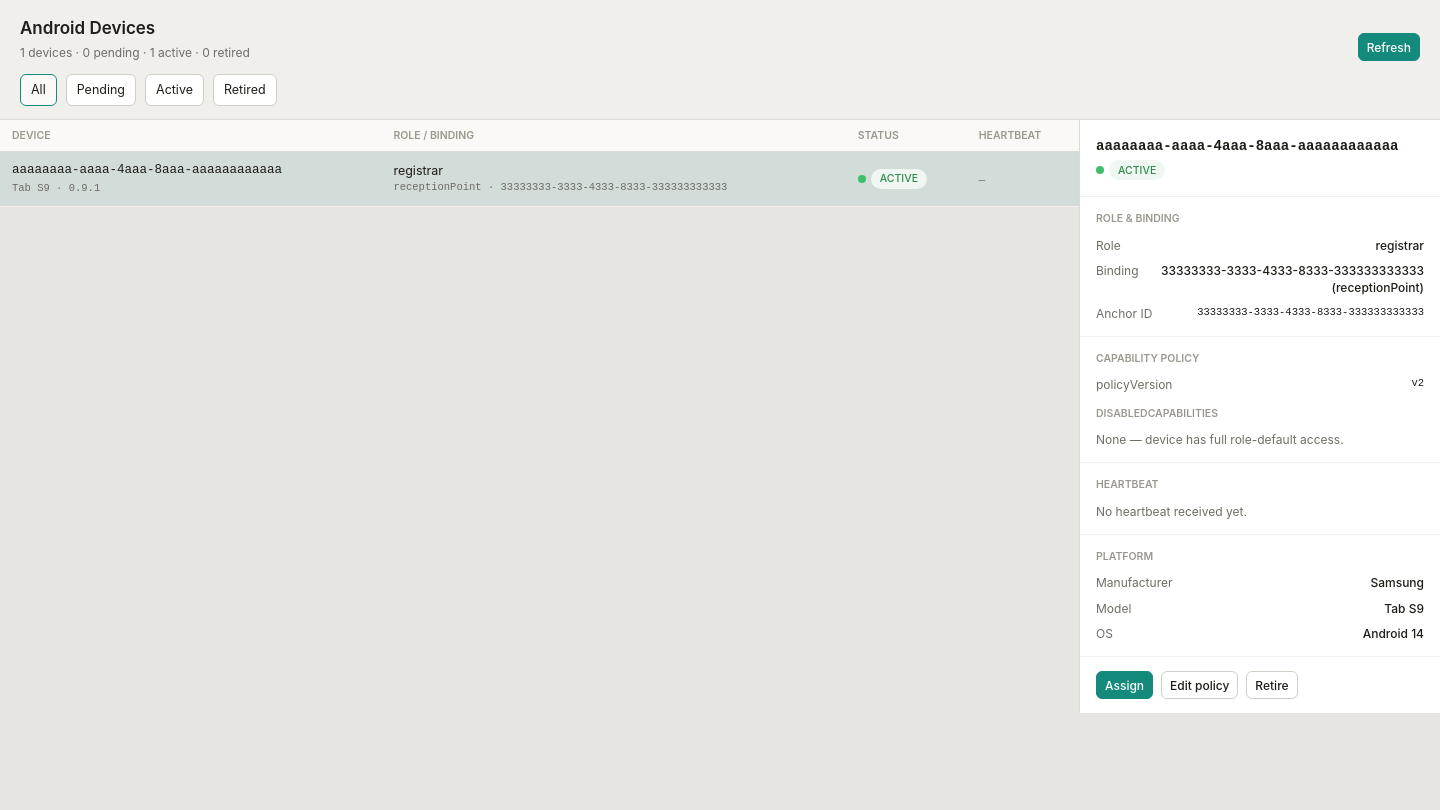
device commands · live mode › degraded backend surfaces the degraded state over the device list
The width and height of the screenshot is (1440, 810).
Click the button "Retire".
click(1272, 685)  # box [1246,671,1298,699]
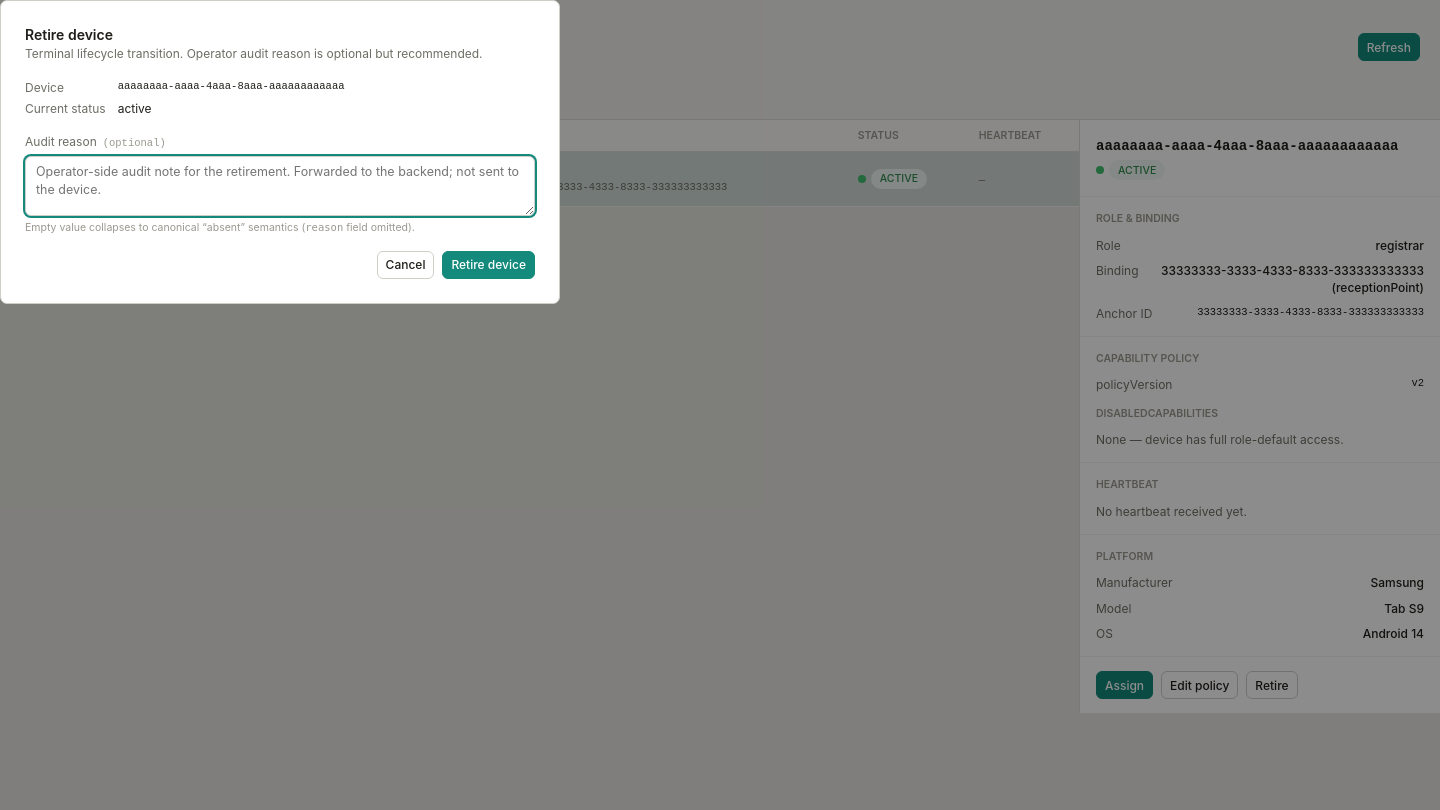
Click the button "Retire device".
click(489, 265)  # box [442,251,535,279]
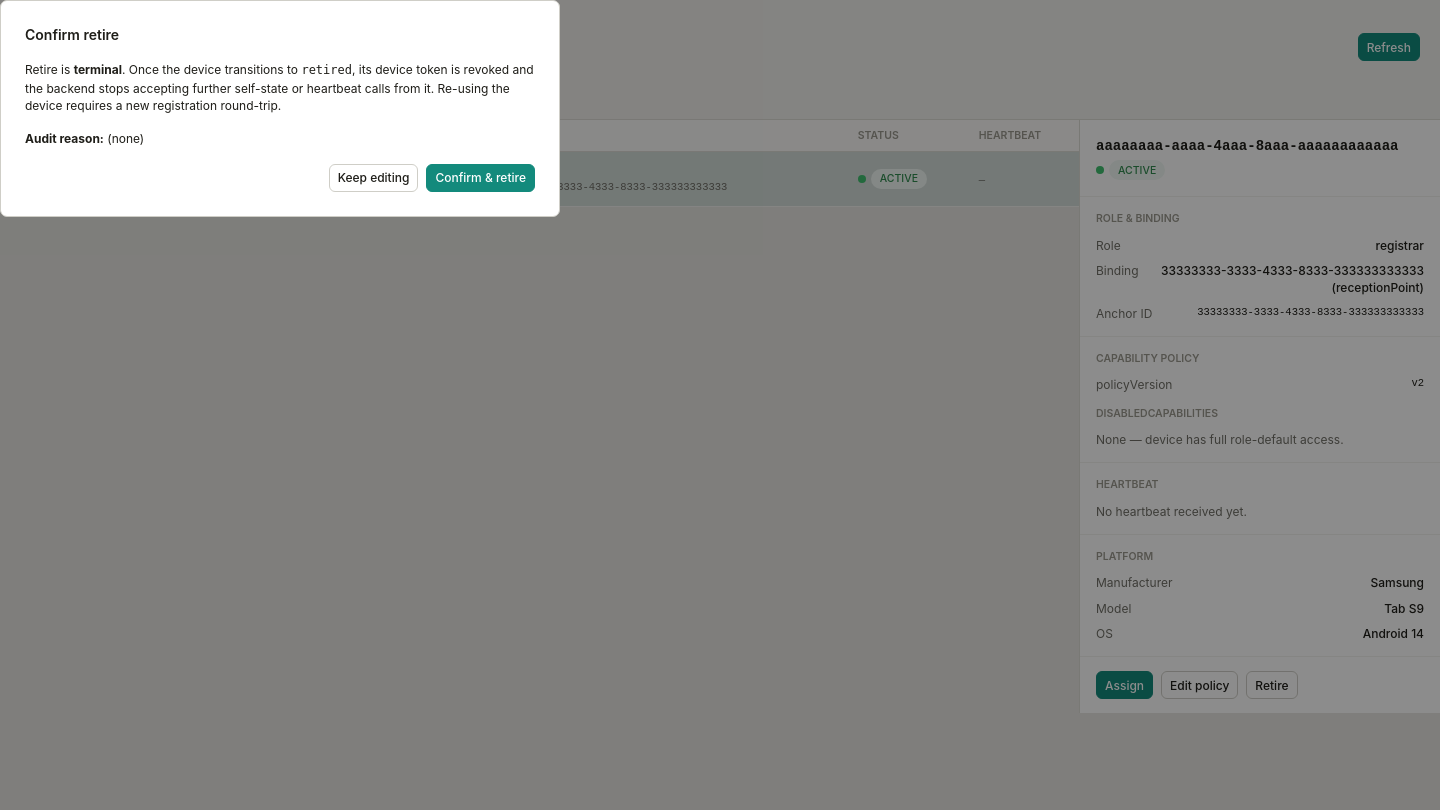
Click the button "Confirm & retire".
click(481, 178)  # box [426,164,535,192]
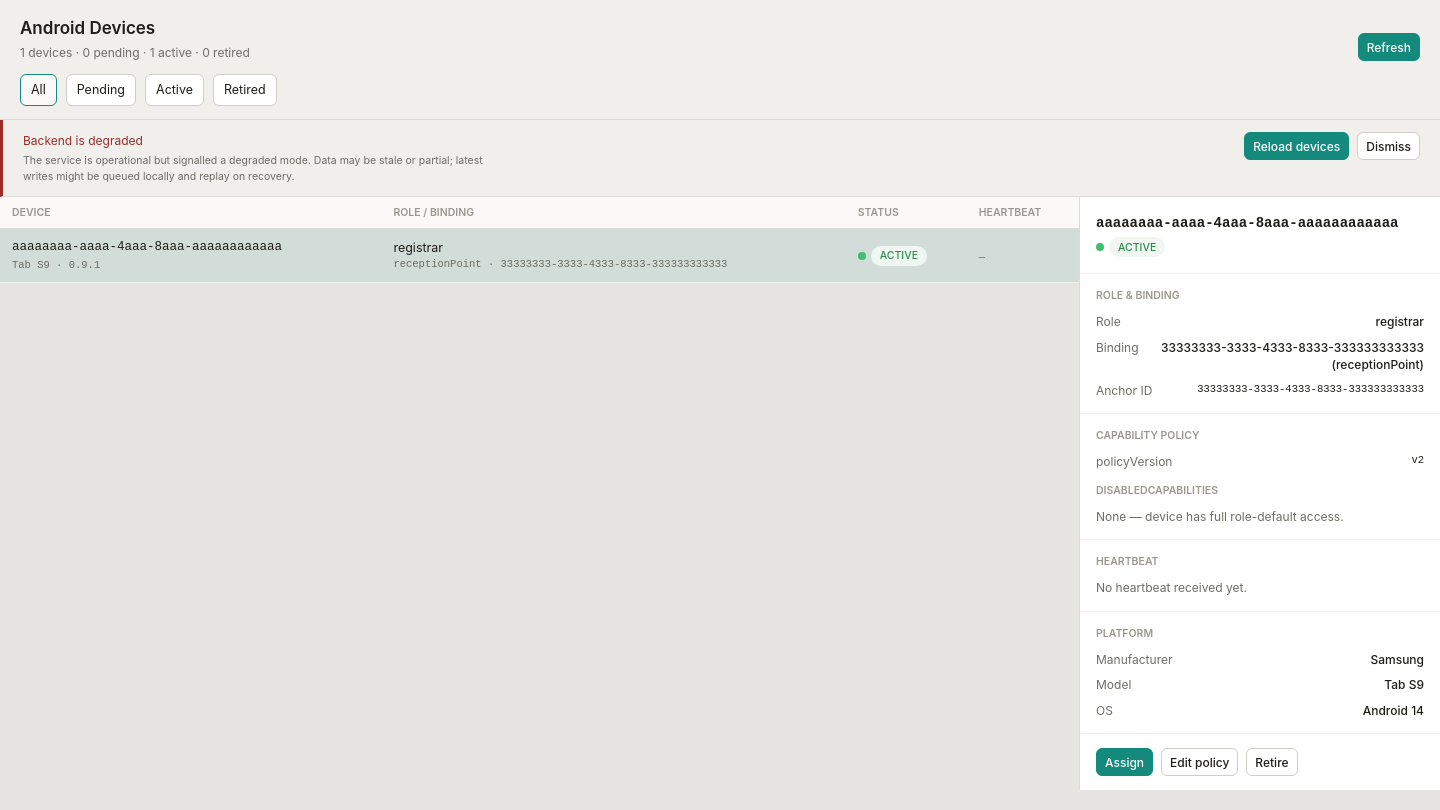
Expected: the table is shown, [0,197,1079,284]
Now the message named "device command failed" shows "Backend is degraded", box [23,133,143,148]
